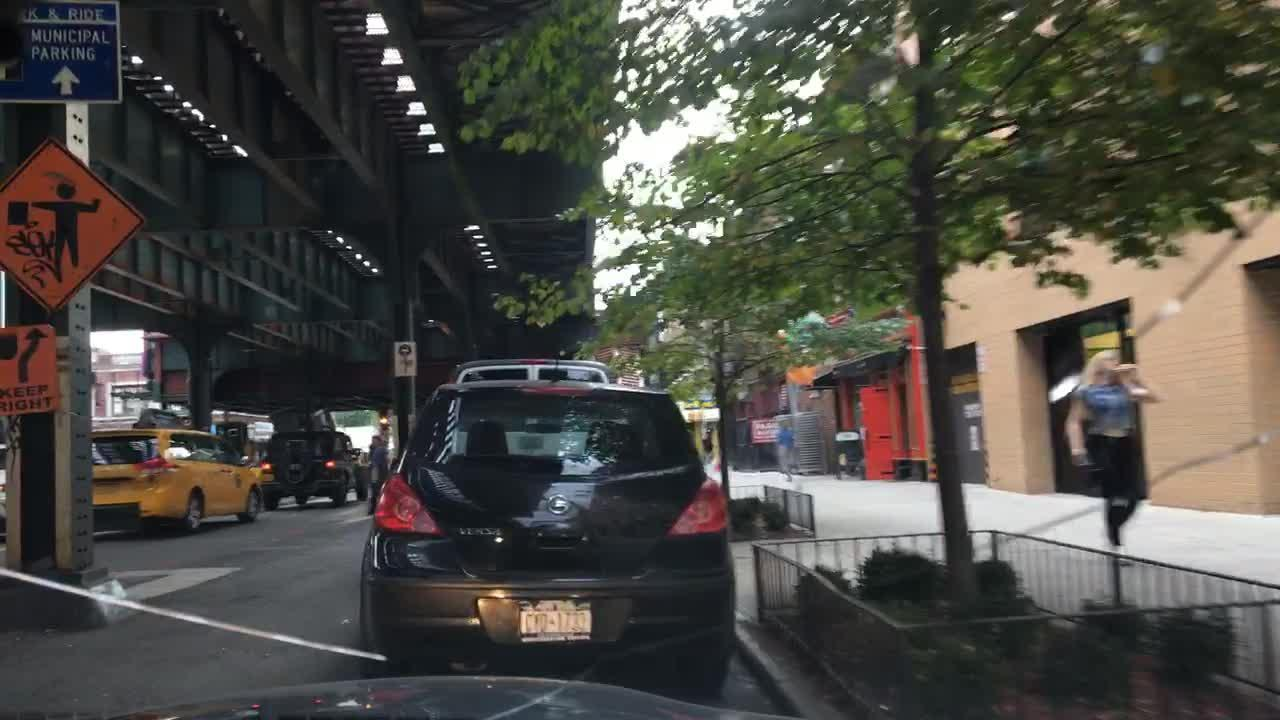Mercury: (549, 494, 574, 520)
